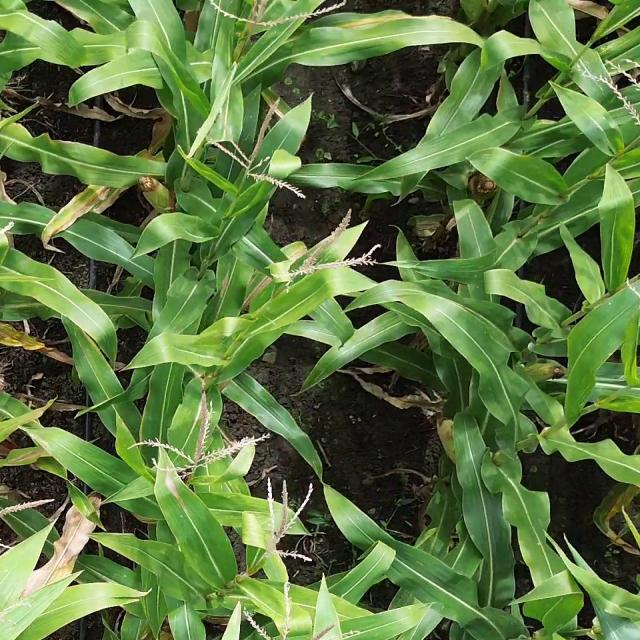gray-leaf-spot: (230, 378, 328, 464), (200, 476, 310, 536)
northern-leaf-blight: (31, 163, 130, 243)
